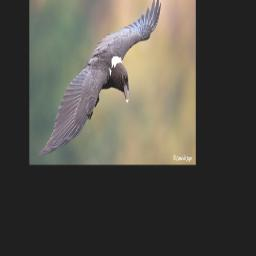Crow: (38, 0, 162, 159)
